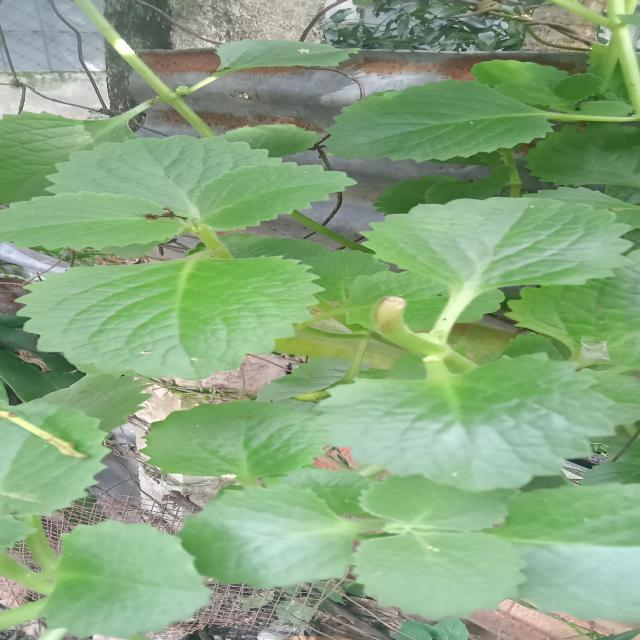Oregano: (8, 250, 401, 402), (0, 117, 379, 255)
